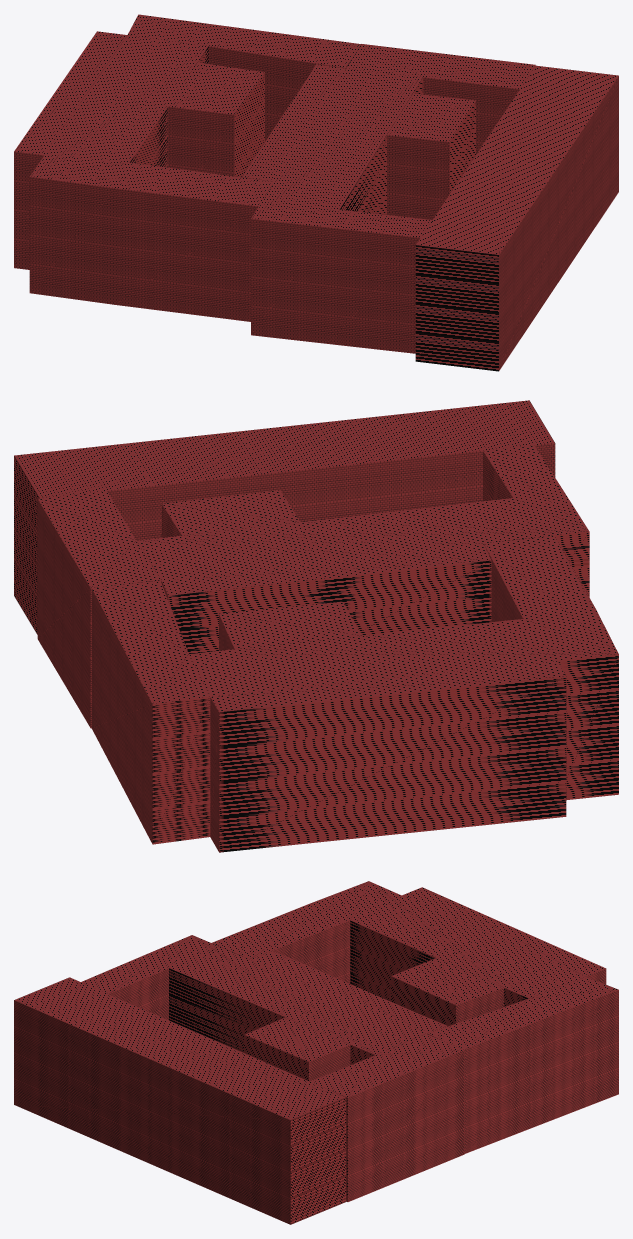
The model's file is jiaoxuloua1_a3.fbx.
3 renders of one model, top to bottom at view 1: azimuth 30°, elevation 25°; view 2: azimuth 150°, elevation 25°; view 3: azimuth 270°, elevation 25°, orthographic. The views are drawn at different scales.
Parts seen in each view (by area): view 1: CityEngineMaterial_m; view 2: CityEngineMaterial_m; view 3: CityEngineMaterial_m.
Part boxes in pixels (x1,y1,x2,y2): CityEngineMaterial_m: (14,14,618,371); CityEngineMaterial_m: (14,400,618,852); CityEngineMaterial_m: (14,881,618,1224).
Size of the model in its own units: 98.09 by 20 by 105.
